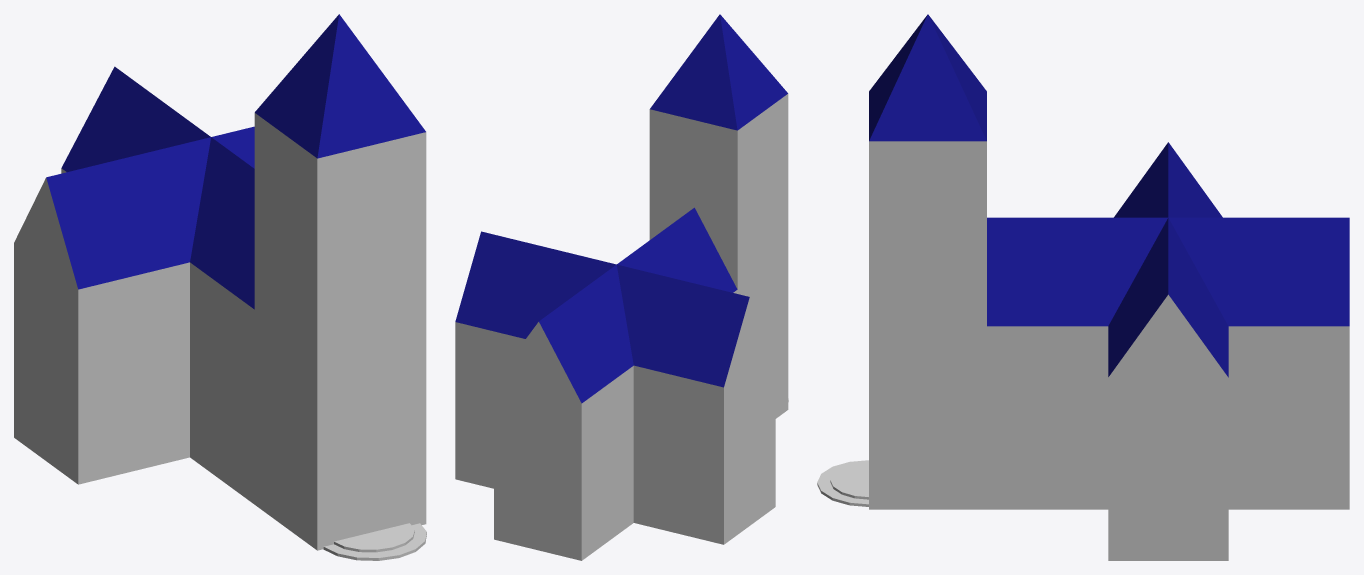
Rendered from Church.fbx.
The picture shows the model from 3 angles, left to right: view 1: azimuth 30°, elevation 25°; view 2: azimuth 150°, elevation 25°; view 3: azimuth 270°, elevation 25°; orthographic projection. The views are drawn at different scales.
Visible parts, largest first — view 1: Cube; view 2: Cube; view 3: Cube.
Part boxes in pixels (left/top/right/bottom): Cube: left=14, top=14, right=426, bottom=560; Cube: left=455, top=14, right=788, bottom=560; Cube: left=817, top=14, right=1349, bottom=560.
Bounding box in the file's own units: 3899 × 5607 × 5751.
